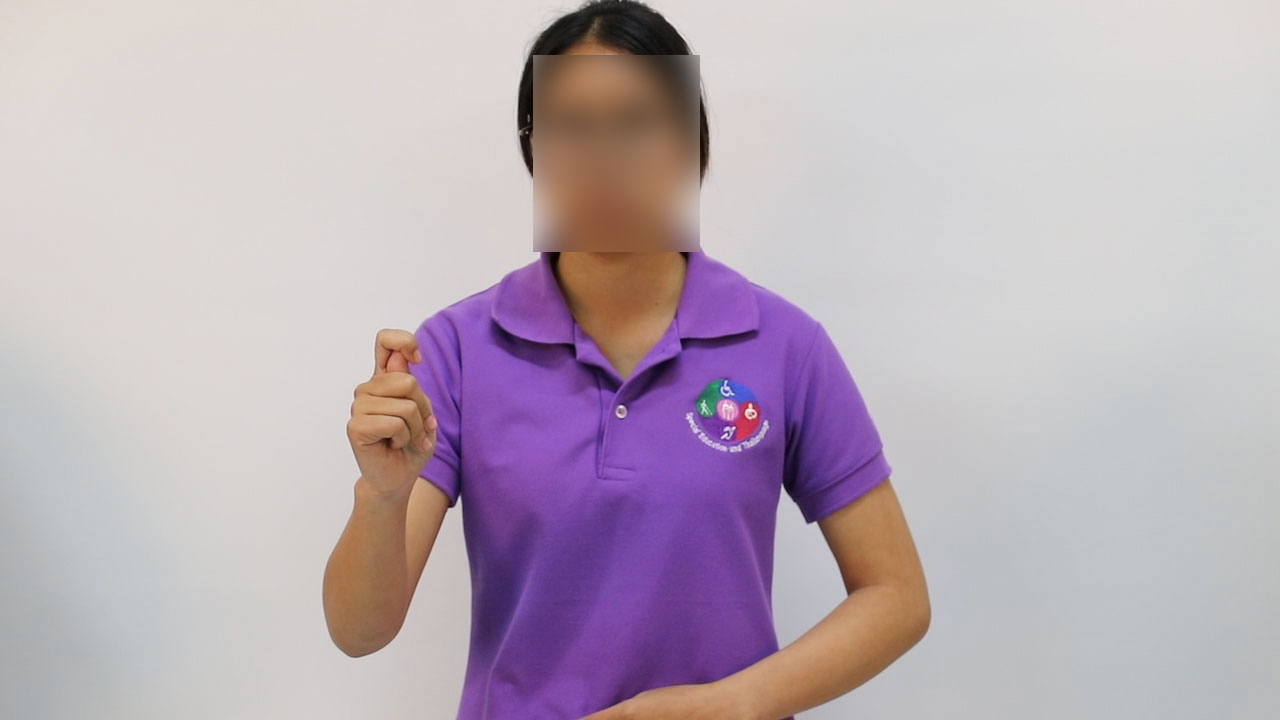or: (340, 318, 450, 510)
